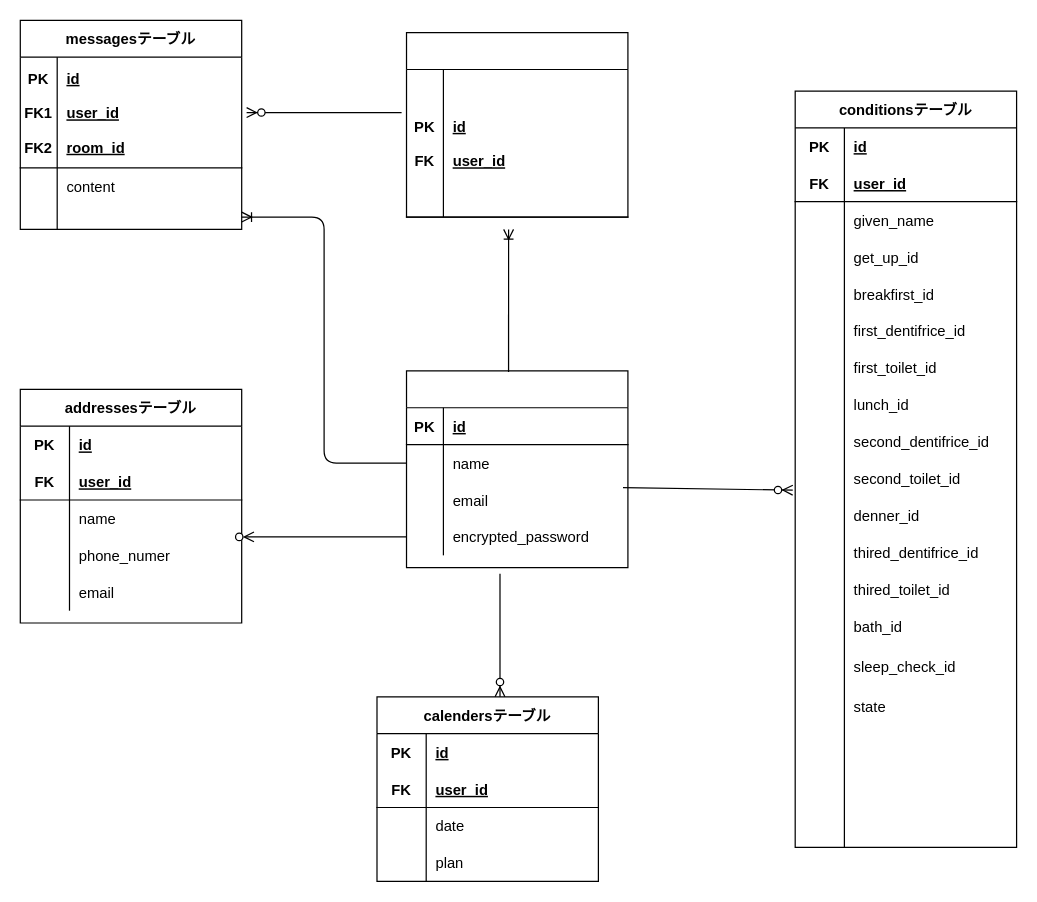
The diagram is 1037 pixels wide and 902 high, and some of its shapes have lost their labels. The shapes that lost their labels are listed below. From the top down, each one's box as (x1, y1, x2, y2) in pixels, then its label:
(405, 31, 628, 217): roomsテーブル
(405, 370, 628, 568): usersテーブル
